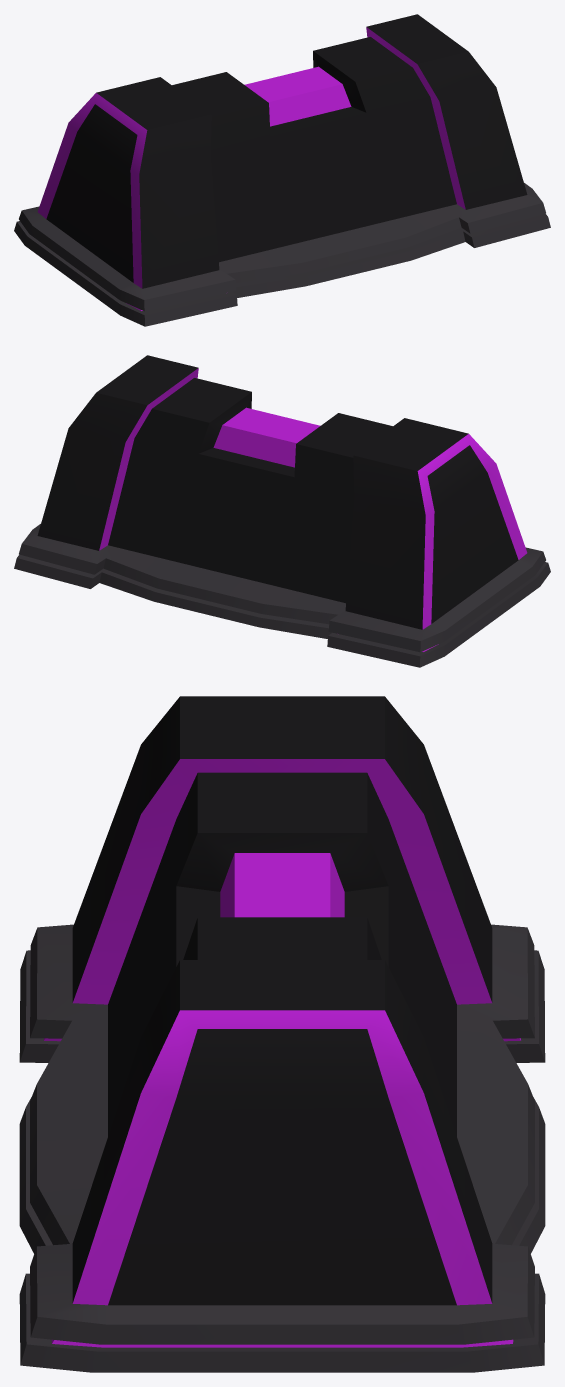
The model's file is Barrier_Single.fbx.
3 renders of one model, top to bottom at view 1: azimuth 30°, elevation 25°; view 2: azimuth 150°, elevation 25°; view 3: azimuth 270°, elevation 25°, orthographic. The views are drawn at different scales.
Parts seen in each view (by area): view 1: Barrier_Single; view 2: Barrier_Single; view 3: Barrier_Single.
Part boxes in pixels (x1=…): Barrier_Single: x1=14, y1=14, x2=550, y2=326; Barrier_Single: x1=14, y1=355, x2=550, y2=667; Barrier_Single: x1=19, y1=696, x2=545, y2=1372.
Size of the model in its own units: 268 by 96.87 by 145.
